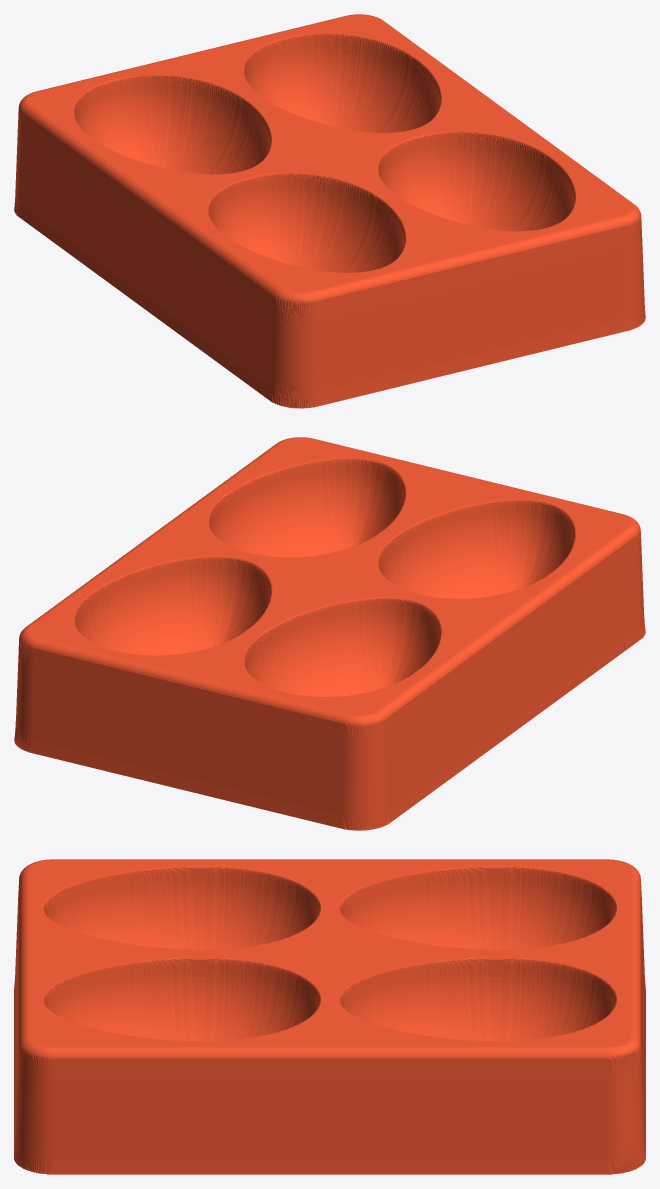
The model's file is mold.glb.
The picture shows the model from 3 angles, top to bottom: view 1: azimuth 30°, elevation 25°; view 2: azimuth 150°, elevation 25°; view 3: azimuth 270°, elevation 25°; orthographic projection. The views are drawn at different scales.
Parts seen in each view (by area): view 1: geometry_0; view 2: geometry_0; view 3: geometry_0.
Part boxes in pixels (x1,y1,x2,y2): geometry_0: (14, 14, 645, 408); geometry_0: (14, 437, 645, 830); geometry_0: (14, 859, 645, 1174).
Size of the model in its own units: 0.1096 by 0.031 by 0.1466.
